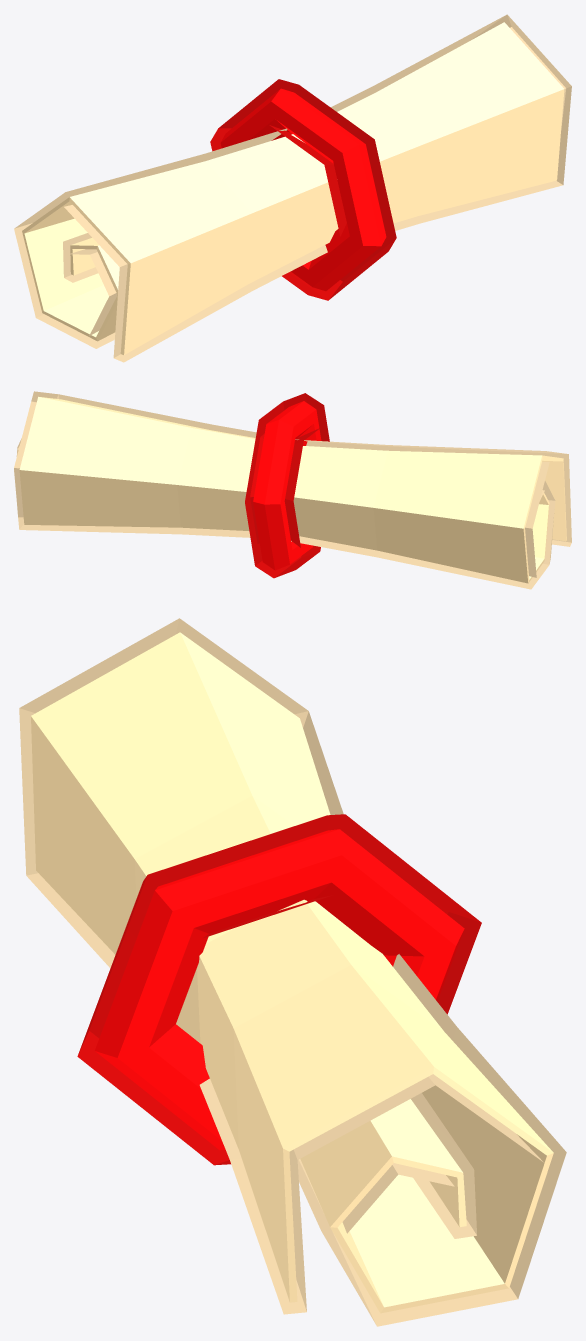
File: scroll7.glb
3 views of the same model, one above another, from view 1: azimuth 30°, elevation 25°; view 2: azimuth 150°, elevation 25°; view 3: azimuth 270°, elevation 25° (orthographic). The views are drawn at different scales.
Visible parts, largest first — view 1: Scroll.006, PaperToon.007; view 2: Scroll.006, PaperToon.007; view 3: Scroll.006, PaperToon.007.
Boxes of the visible parts, box(x1,y1,x2,y2) form: Scroll.006: box(22, 22, 564, 354); PaperToon.007: box(14, 14, 571, 362); Scroll.006: box(19, 396, 566, 583); PaperToon.007: box(14, 391, 571, 589); Scroll.006: box(31, 632, 553, 1313); PaperToon.007: box(19, 618, 566, 1326).
Bounding box in the file's own units: 0.3263 × 0.1108 × 0.1611.
2 materials, 2 textured.
